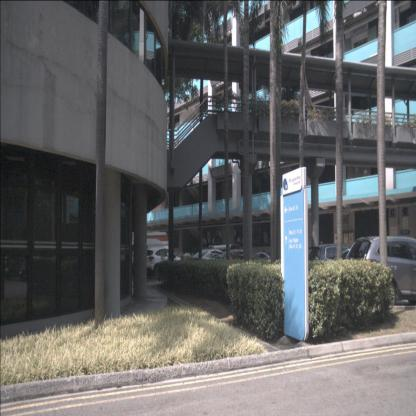vehicle-car: (345, 236, 416, 308), (308, 243, 365, 290), (215, 249, 260, 280), (142, 247, 182, 278), (191, 249, 231, 274), (246, 252, 272, 270)
